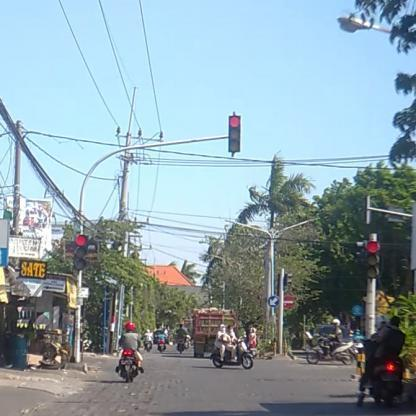red: (364, 237, 382, 283), (226, 114, 242, 153), (74, 233, 86, 270)
